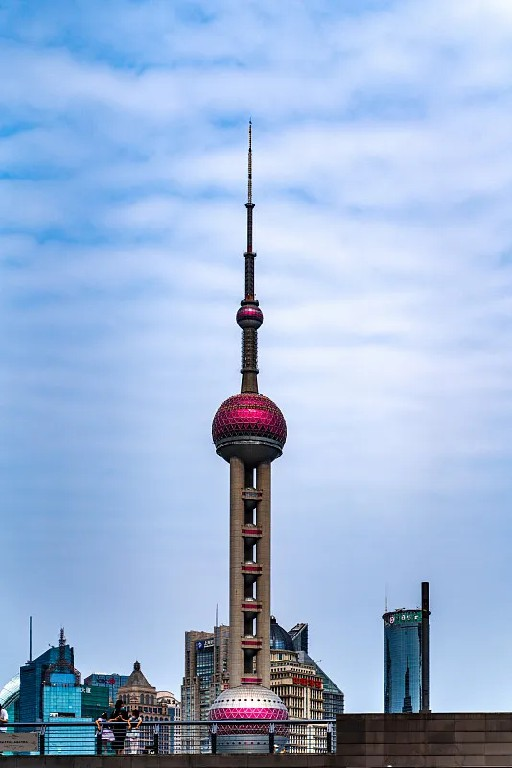Oriental: (208, 121, 292, 756)
